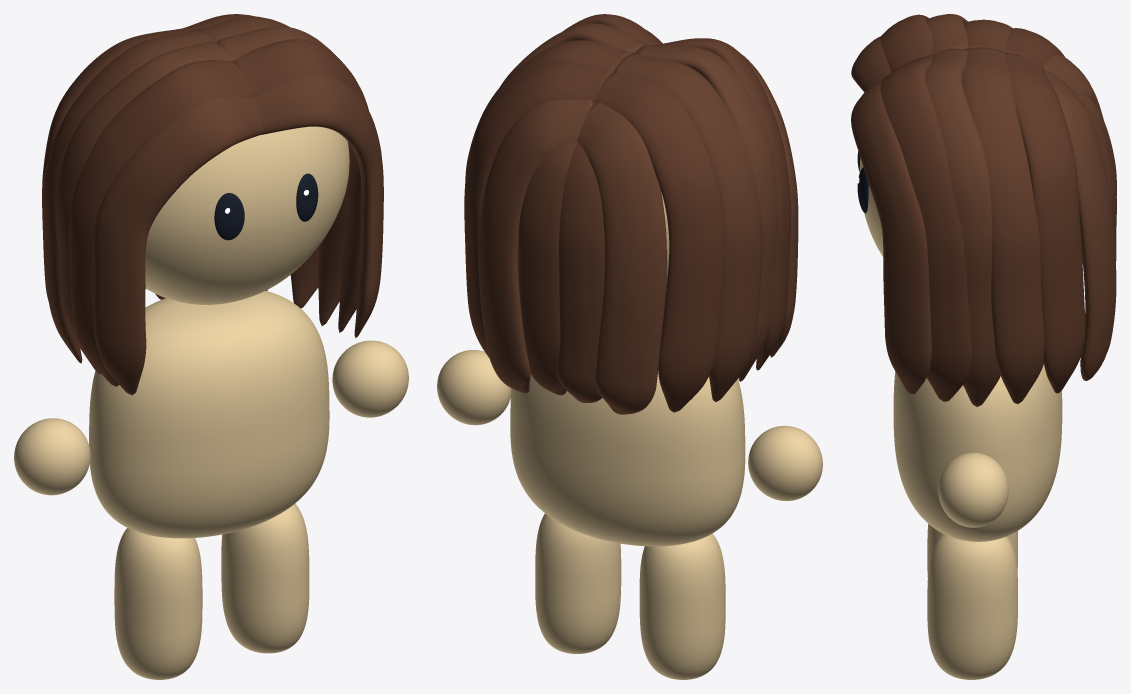
The model's file is Feminine-skin1.glb.
The picture shows the model from 3 angles, left to right: view 1: azimuth 30°, elevation 25°; view 2: azimuth 150°, elevation 25°; view 3: azimuth 270°, elevation 25°; orthographic projection. The views are drawn at different scales.
Parts seen in each view (by area): view 1: Skin / compact torso with skirt outline, Skin / soft oval head, Hair / Straight -1 0, Hair / Straight -1 1, Skin / leg -1, Skin / leg 1, Hair / Straight 1 0, Hair / Straight 1 1, Hair / Straight -1 2, Hair / Straight -1 3, Skin / hand 1, Skin / hand -1 (+5 smaller); view 2: Skin / compact torso with skirt outline, Hair / Straight -1 4, Hair / Straight -1 5, Hair / Straight -1 3, Hair / Straight 1 5, Skin / leg -1, Hair / Straight -1 6, Skin / leg 1, Hair / Straight 1 6, Hair / Straight 1 4, Hair / Straight -1 2, Hair / Straight -1 1 (+6 smaller); view 3: Skin / compact torso with skirt outline, Hair / Straight 1 3, Hair / Straight 1 4, Hair / Straight 1 1, Hair / Straight 1 0, Skin / leg 1, Hair / Straight 1 2, Hair / Straight 1 5, Skin / hand 1, Hair / Straight -1 1, Hair / Straight -1 0, Hair / Straight -1 4 (+7 smaller).
Part boxes in pixels (<box>): Skin / compact torso with skirt outline: <box>89,291,329,538</box>; Skin / soft oval head: <box>145,126,349,304</box>; Hair / Straight -1 0: <box>93,96,263,395</box>; Hair / Straight -1 1: <box>69,60,252,386</box>; Skin / leg -1: <box>114,528,202,679</box>; Skin / leg 1: <box>221,503,309,653</box>; Hair / Straight 1 0: <box>253,75,383,338</box>; Hair / Straight 1 1: <box>233,39,368,332</box>; Hair / Straight -1 2: <box>56,41,233,374</box>; Hair / Straight -1 3: <box>42,30,214,363</box>; Skin / hand 1: <box>332,340,408,417</box>; Skin / hand -1: <box>14,418,90,495</box>; Skin / compact torso with skirt outline: <box>510,371,745,546</box>; Hair / Straight -1 4: <box>594,71,724,412</box>; Hair / Straight -1 5: <box>577,101,666,414</box>; Hair / Straight -1 3: <box>613,53,762,402</box>; Hair / Straight 1 5: <box>478,99,593,393</box>; Skin / leg -1: <box>639,533,725,679</box>; Hair / Straight -1 6: <box>557,142,604,402</box>; Skin / leg 1: <box>535,513,621,653</box>; Hair / Straight 1 6: <box>518,141,577,395</box>; Hair / Straight 1 4: <box>464,62,612,357</box>; Hair / Straight -1 2: <box>635,45,777,381</box>; Hair / Straight -1 1: <box>653,38,791,370</box>; Skin / compact torso with skirt outline: <box>893,364,1062,541</box>; Hair / Straight 1 3: <box>962,47,1044,404</box>; Hair / Straight 1 4: <box>1005,53,1085,393</box>; Hair / Straight 1 1: <box>880,55,971,401</box>; Hair / Straight 1 0: <box>851,79,931,394</box>; Skin / leg 1: <box>927,534,1017,679</box>; Hair / Straight 1 2: <box>926,48,1000,407</box>; Hair / Straight 1 5: <box>1044,70,1116,380</box>; Skin / hand 1: <box>938,452,1008,527</box>; Hair / Straight -1 1: <box>880,14,932,71</box>; Hair / Straight -1 0: <box>851,36,891,92</box>; Hair / Straight -1 4: <box>1005,28,1082,263</box>.
Bounding box in the file's own units: 1.49 × 2.31 × 0.9206.
